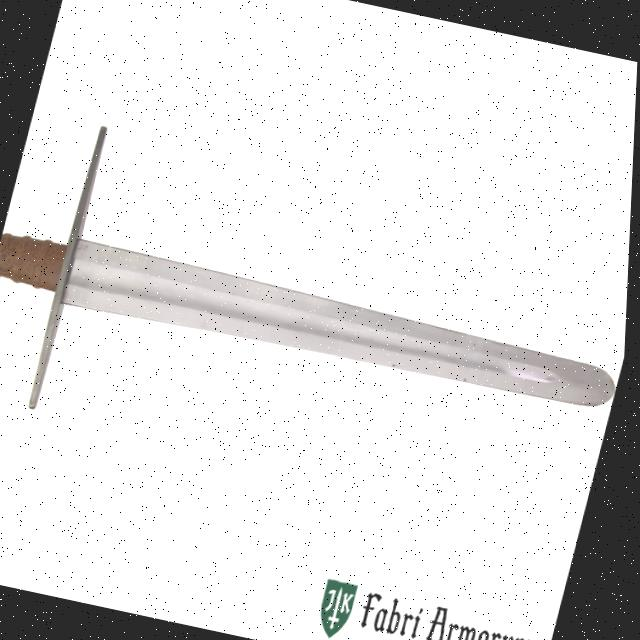knife: (0, 114, 636, 533)
